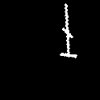double_crochet: (60, 4, 76, 57)
